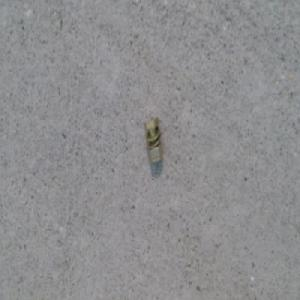BoltNutSet: (142, 115, 164, 169)
